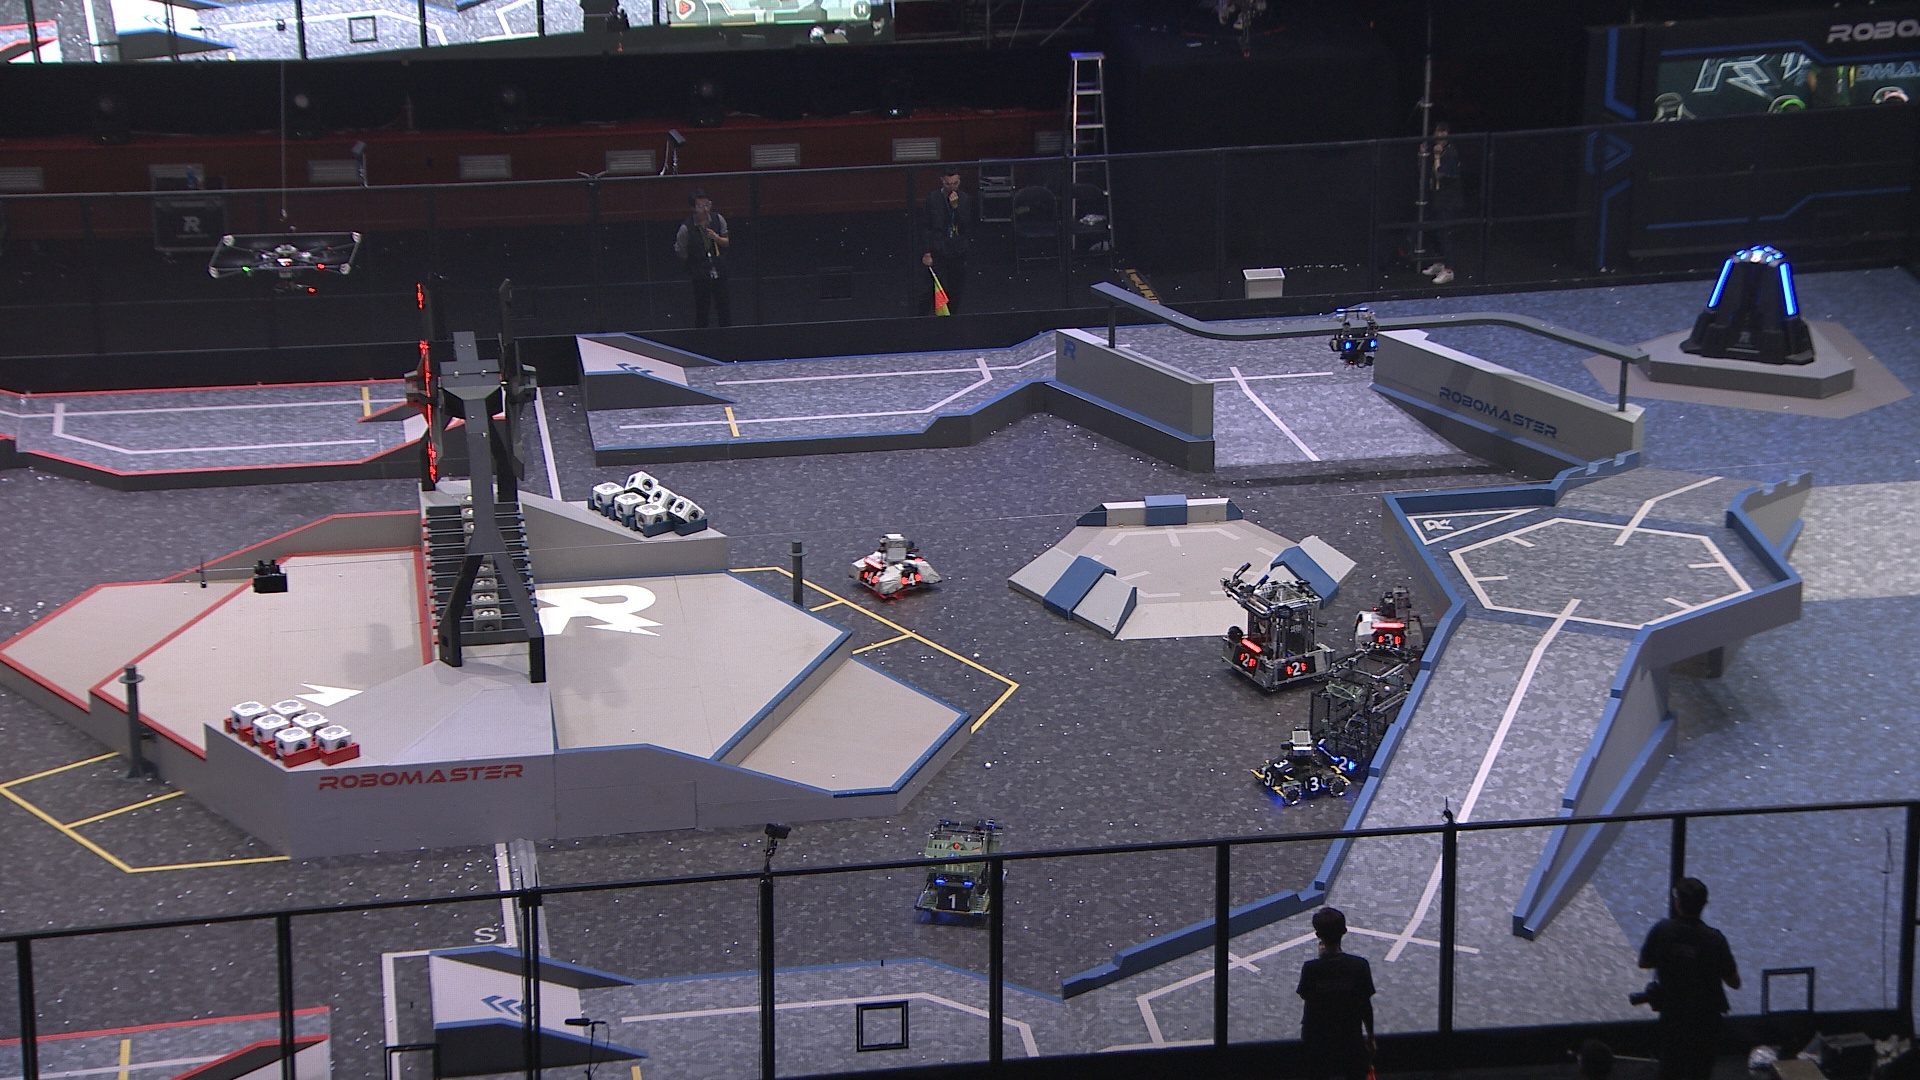armor: (1708, 255, 1731, 306), (1779, 262, 1797, 318), (936, 891, 972, 913), (1738, 248, 1776, 264), (1342, 338, 1378, 353), (1375, 632, 1403, 650), (1269, 756, 1295, 774), (1331, 756, 1356, 773), (1302, 774, 1324, 793), (1283, 659, 1305, 678), (858, 567, 880, 585), (899, 572, 923, 588), (1238, 650, 1257, 669), (1259, 770, 1276, 789)
base: (1676, 248, 1817, 365)
car: (1307, 644, 1416, 771), (1218, 574, 1329, 694), (916, 818, 1010, 924), (1247, 727, 1349, 804), (847, 533, 942, 603), (1352, 585, 1427, 659)
watcher: (1328, 305, 1381, 368)
